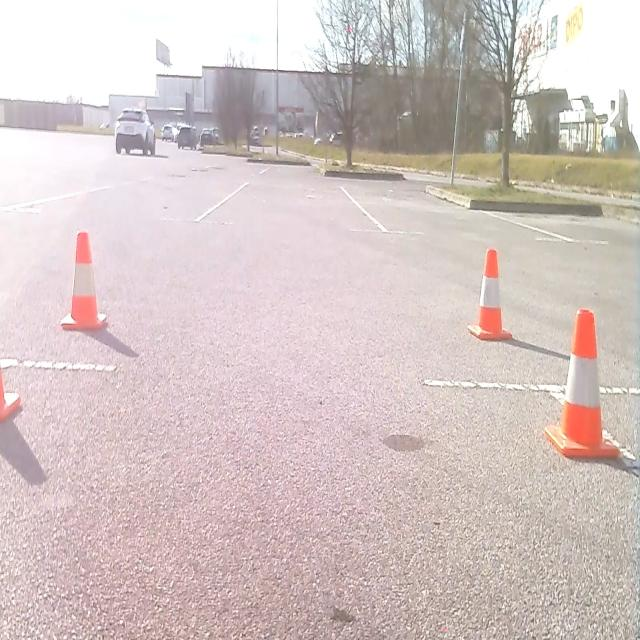orange_cone: (543, 305, 621, 463), (59, 228, 108, 332), (466, 244, 513, 342), (0, 365, 22, 420)
